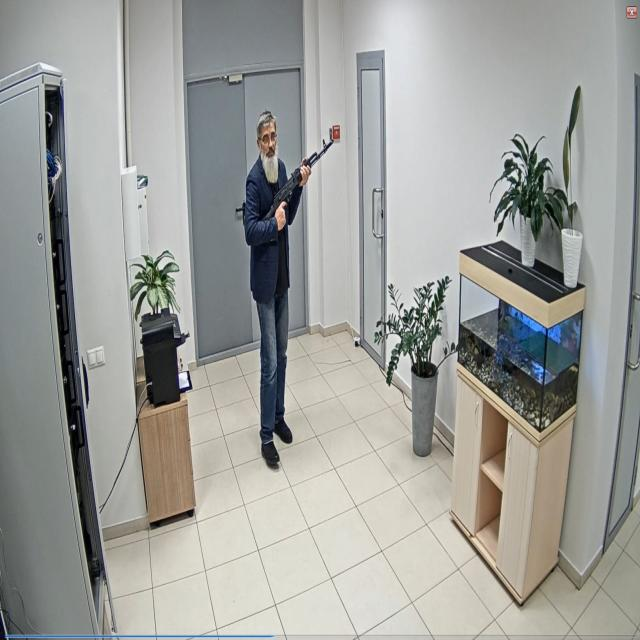-Gun: (262, 139, 334, 224)
